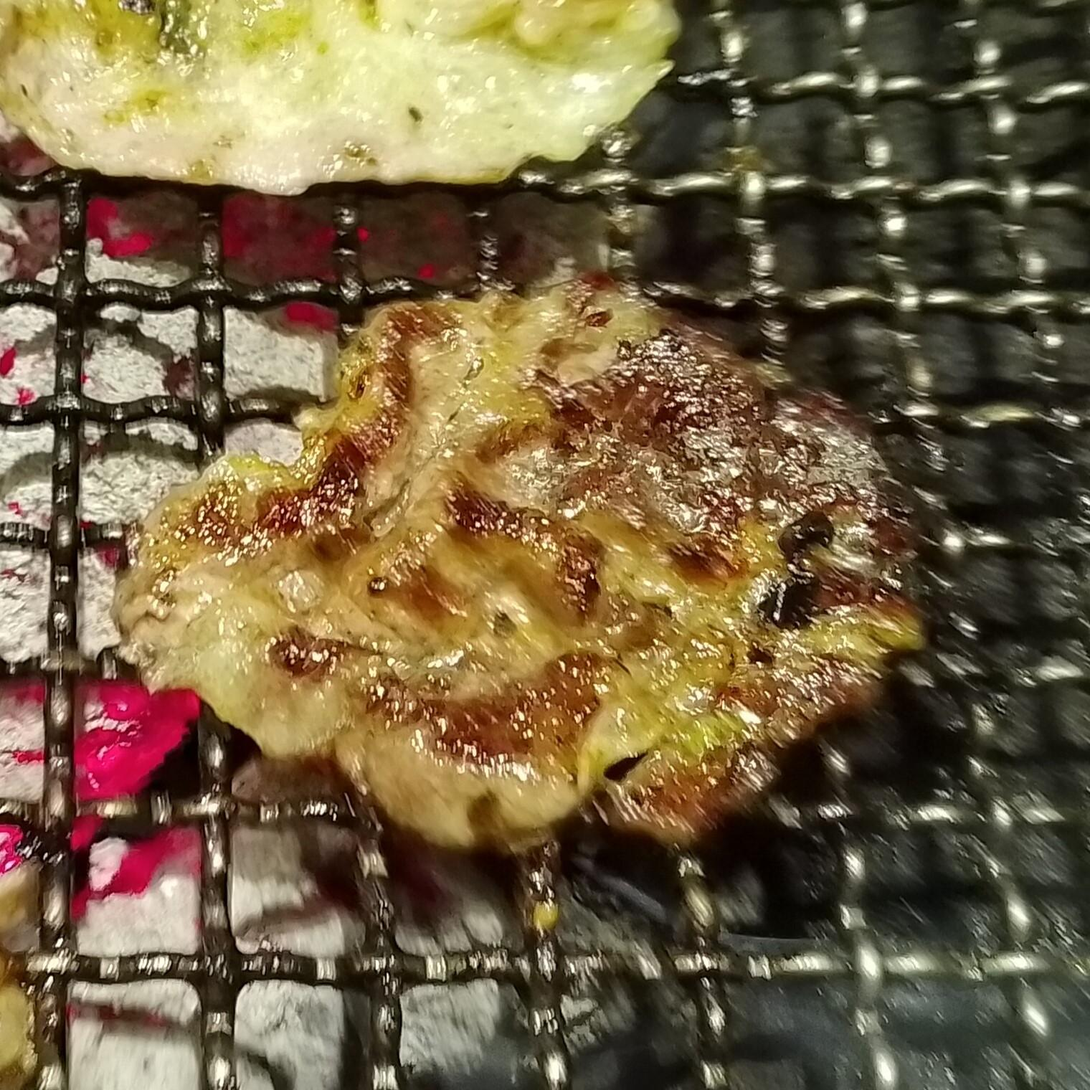Overcooked: (105, 265, 933, 937)
Well-Cooked: (0, 0, 683, 199)
